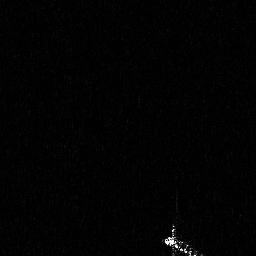ship: (160, 224, 209, 256)
